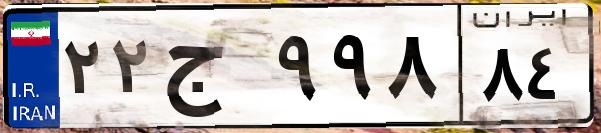2: (57, 26, 110, 100), (110, 28, 158, 98)
4: (525, 38, 570, 115)
8: (385, 28, 445, 110), (475, 38, 525, 113)
9: (270, 28, 330, 110), (330, 28, 385, 110)
ج: (158, 20, 270, 120)
